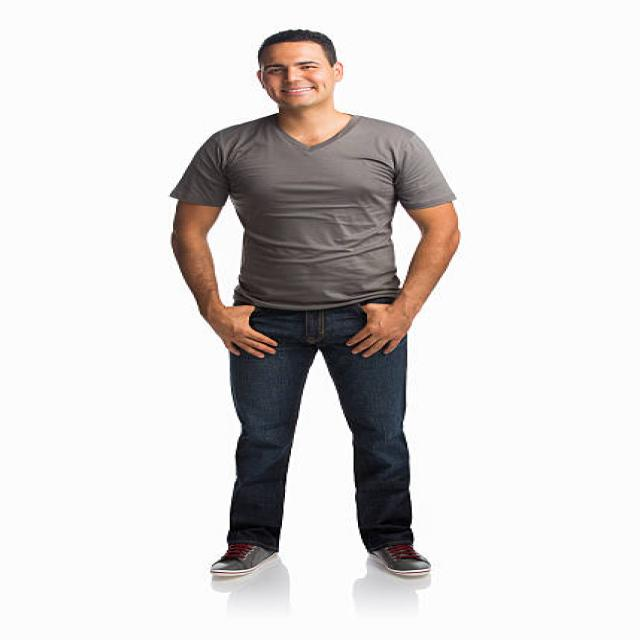Edited images: (139, 15, 500, 602)
